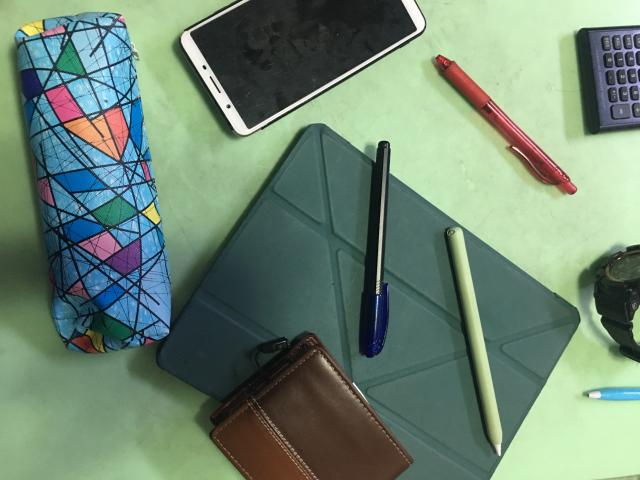Mobile phone: (180, 0, 425, 135)
Pen: (156, 124, 586, 479), (435, 55, 576, 194), (359, 141, 390, 358), (588, 388, 640, 401)
Wallet: (210, 334, 412, 479)
Watch: (594, 245, 640, 362)
